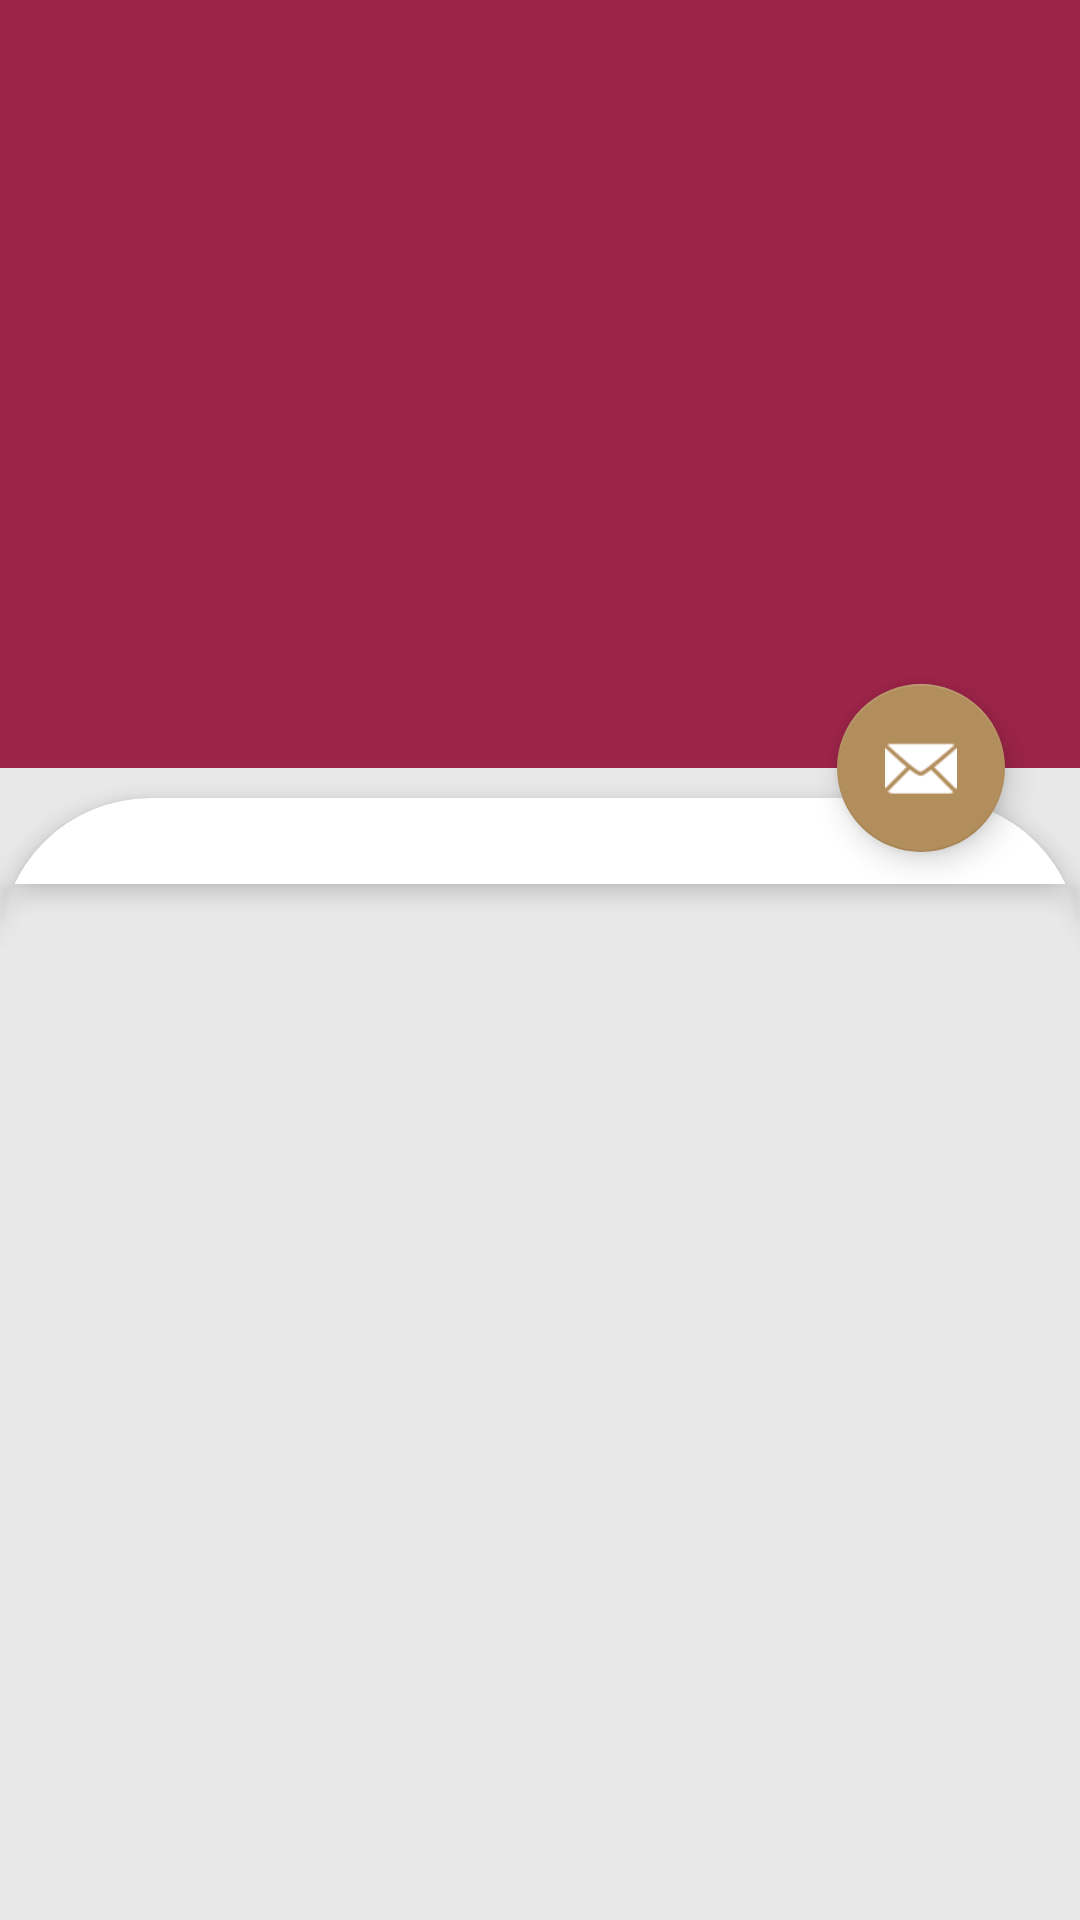

Point at icon controls on the screen. Image size 1080 x 1920, points as [x,y].
email: [921,768]
